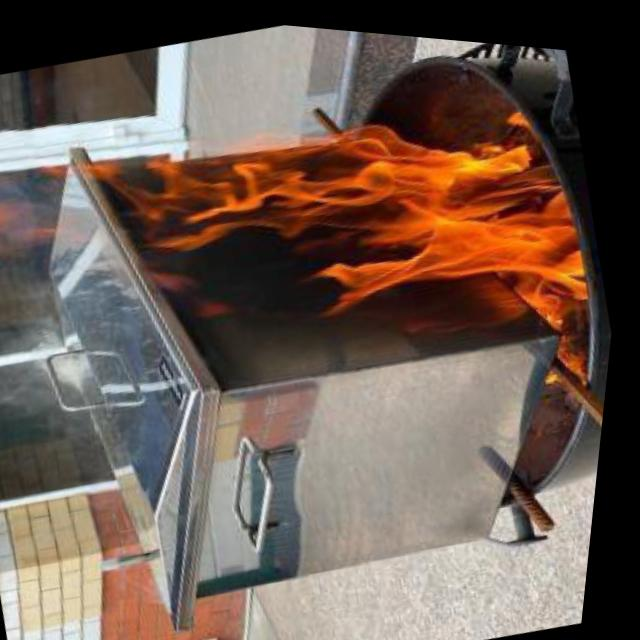Fire: (129, 35, 601, 370), (0, 283, 142, 496)
